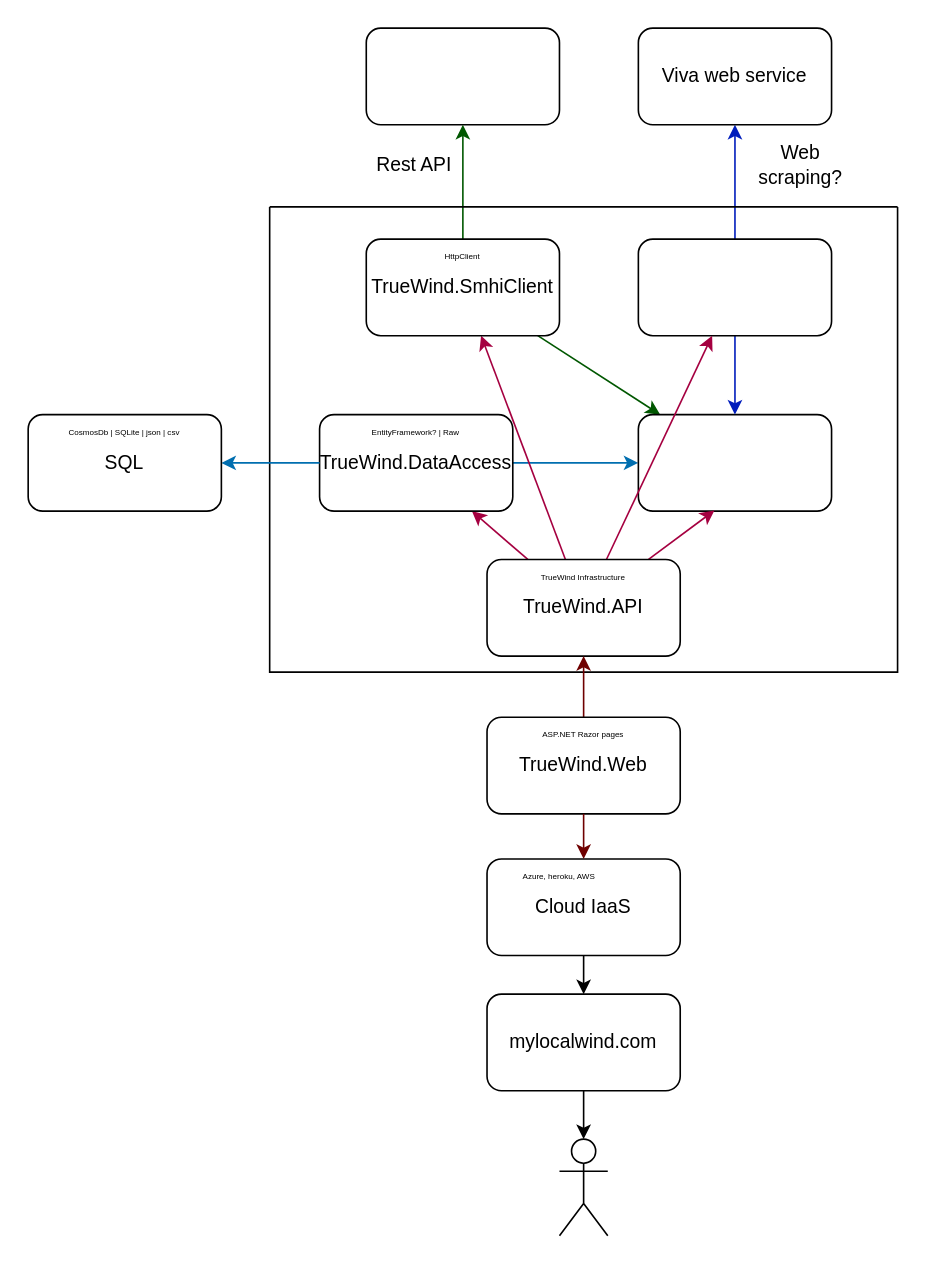
Some shapes in this 926 by 1285 pixel diagram are drawn without their labels. Here are the shapes that lost their labels. From the top down, the centre of each, then its label:
At [462,76]: "SMHI Open API".
At [734,286]: "TrueWind.ViVaClient".
At [734,462]: "TrueWind.Core".
At [583,1186]: "Actor".
